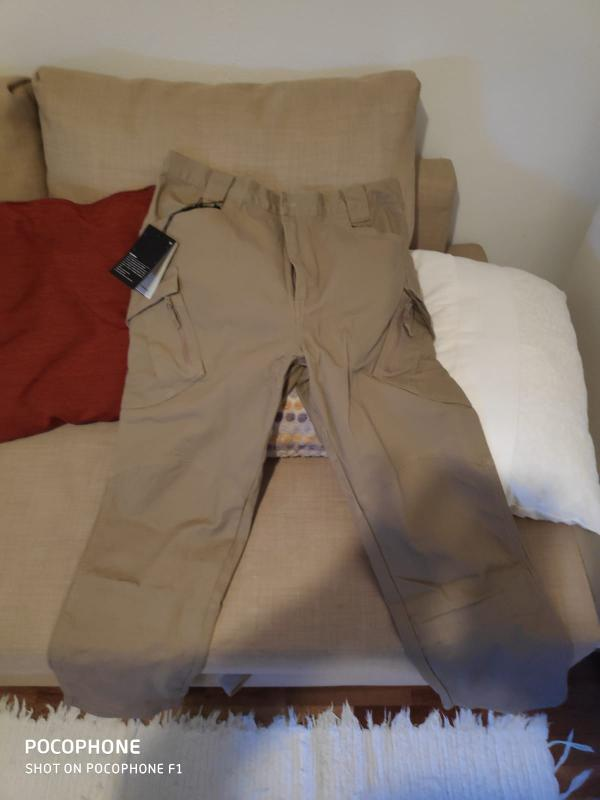pants: (54, 157, 574, 715)
